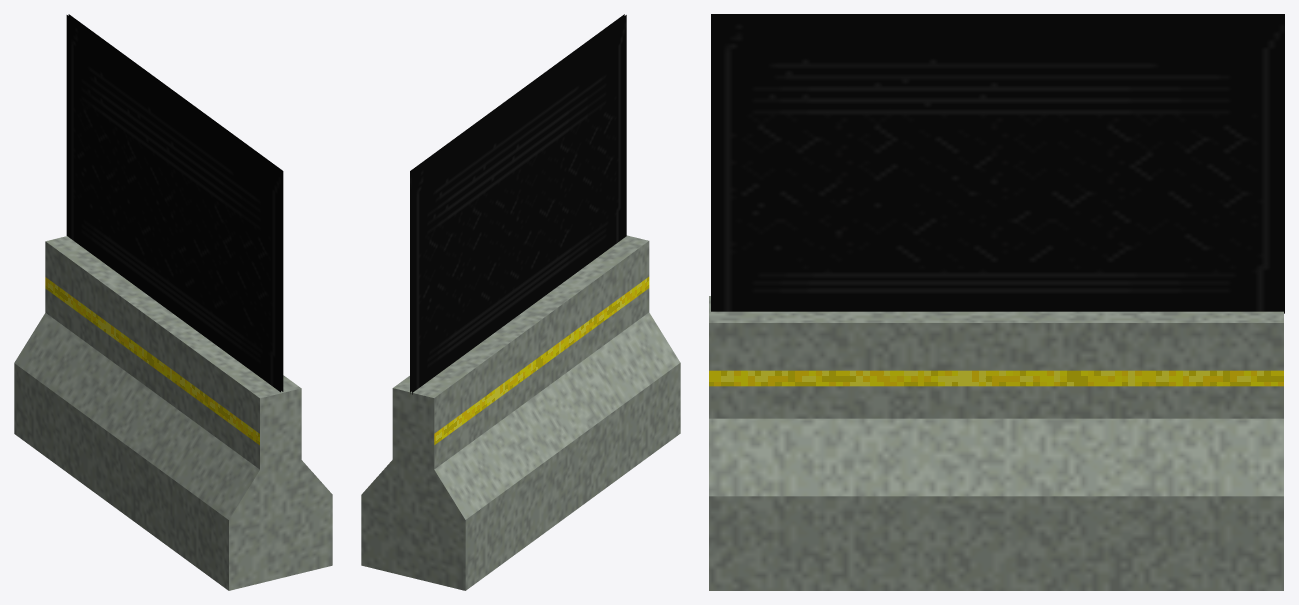
The model's file is BGN_SPIKE BLOCKER.fbx.
3 views of the same model, side by side, from view 1: azimuth 30°, elevation 25°; view 2: azimuth 150°, elevation 25°; view 3: azimuth 270°, elevation 25° (orthographic). The views are drawn at different scales.
Parts seen in each view (by area): view 1: BGN_SPIKE_BLOCKER; view 2: BGN_SPIKE_BLOCKER; view 3: BGN_SPIKE_BLOCKER.
Boxes of the visible parts, x1=… form: BGN_SPIKE_BLOCKER: x1=14, y1=14, x2=332, y2=590; BGN_SPIKE_BLOCKER: x1=361, y1=14, x2=680, y2=590; BGN_SPIKE_BLOCKER: x1=709, y1=14, x2=1284, y2=590.
Bounding box in the file's own units: 73.87 × 276 × 265.
Materials: 3 (3 with a texture image).
